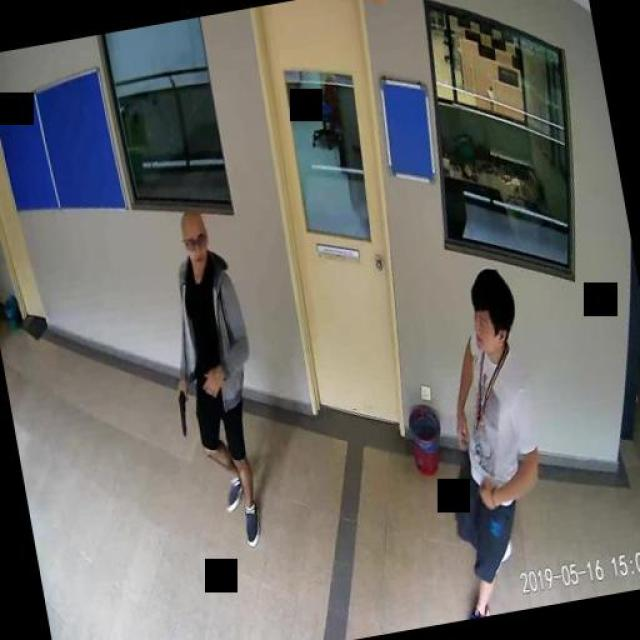gun: (172, 384, 192, 435)
